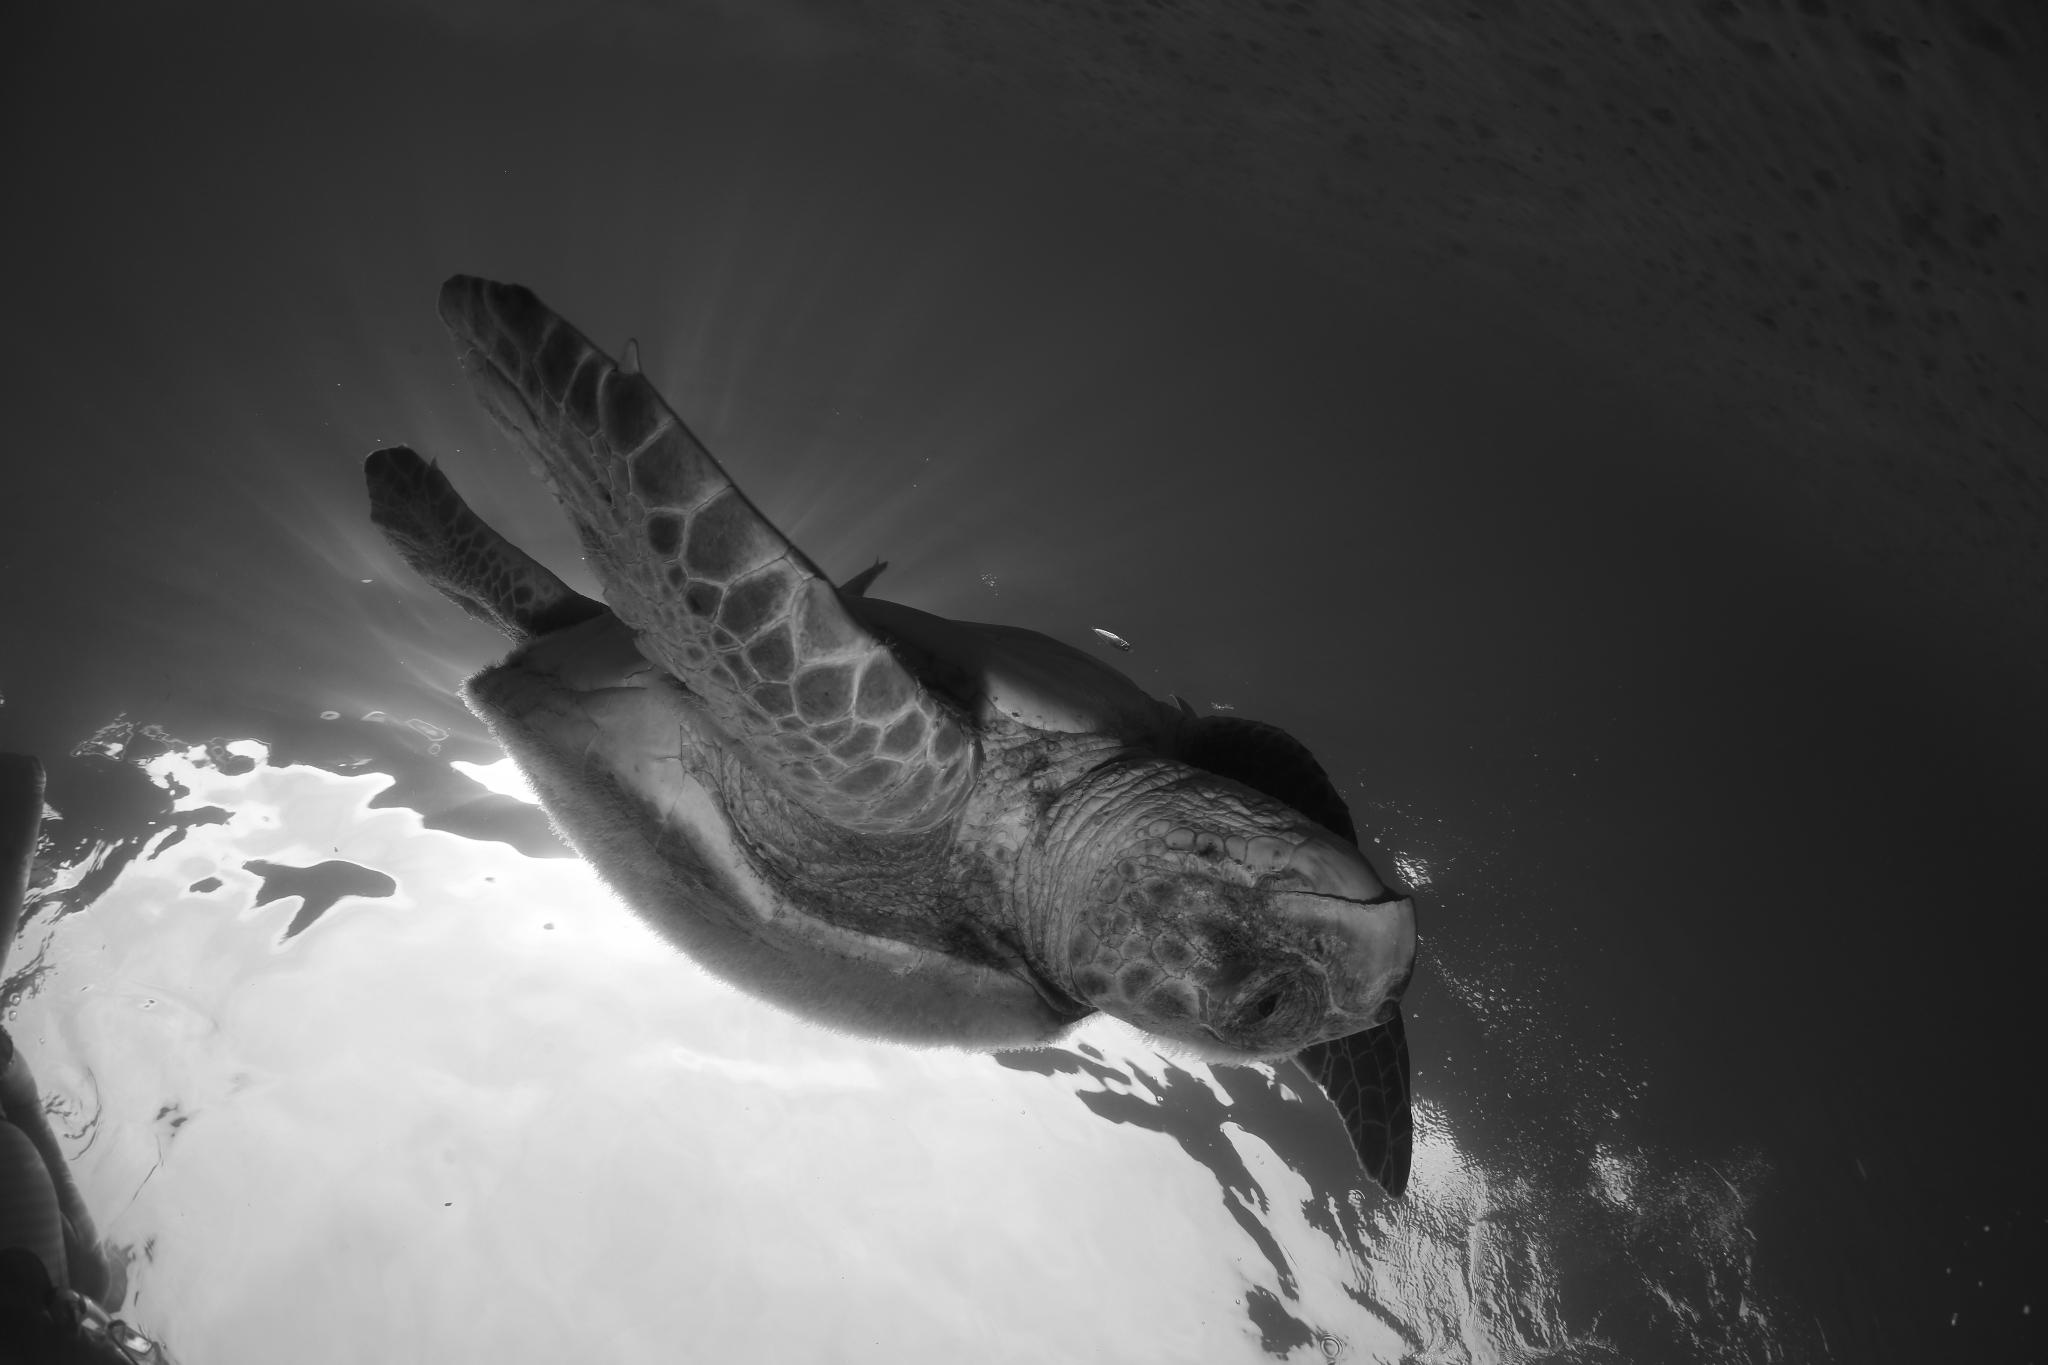Head: (1030, 753, 1416, 1061)
